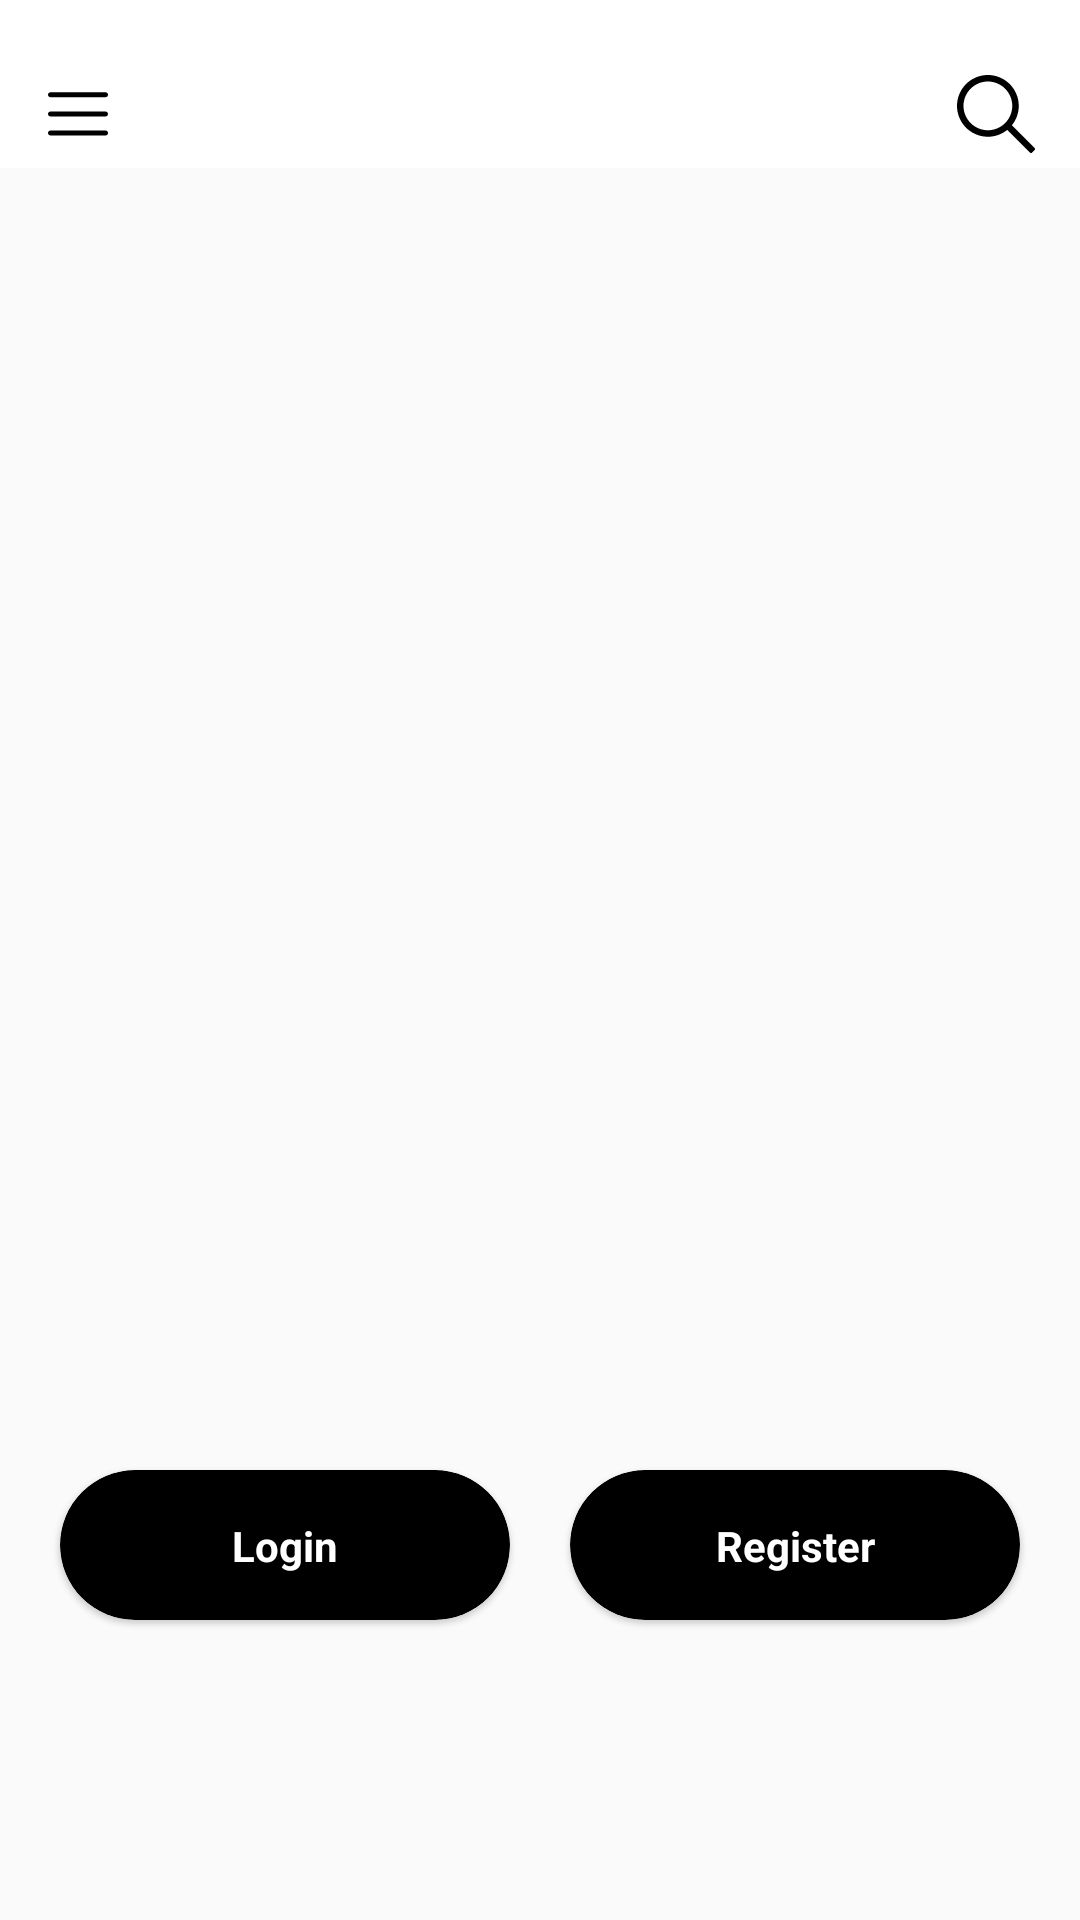

Icon click points for this 1080px×1920px phone screenshot, format (x,y):
open menu: (78,114)
search: (996,114)
